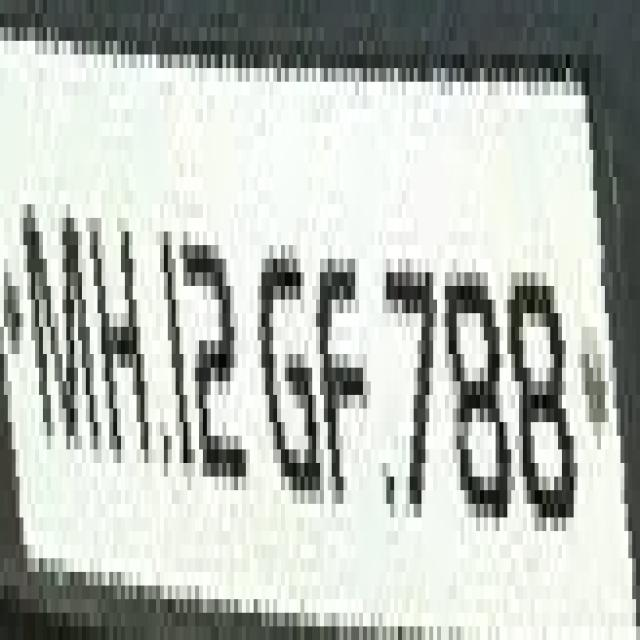license_plate: (0, 41, 609, 640)
